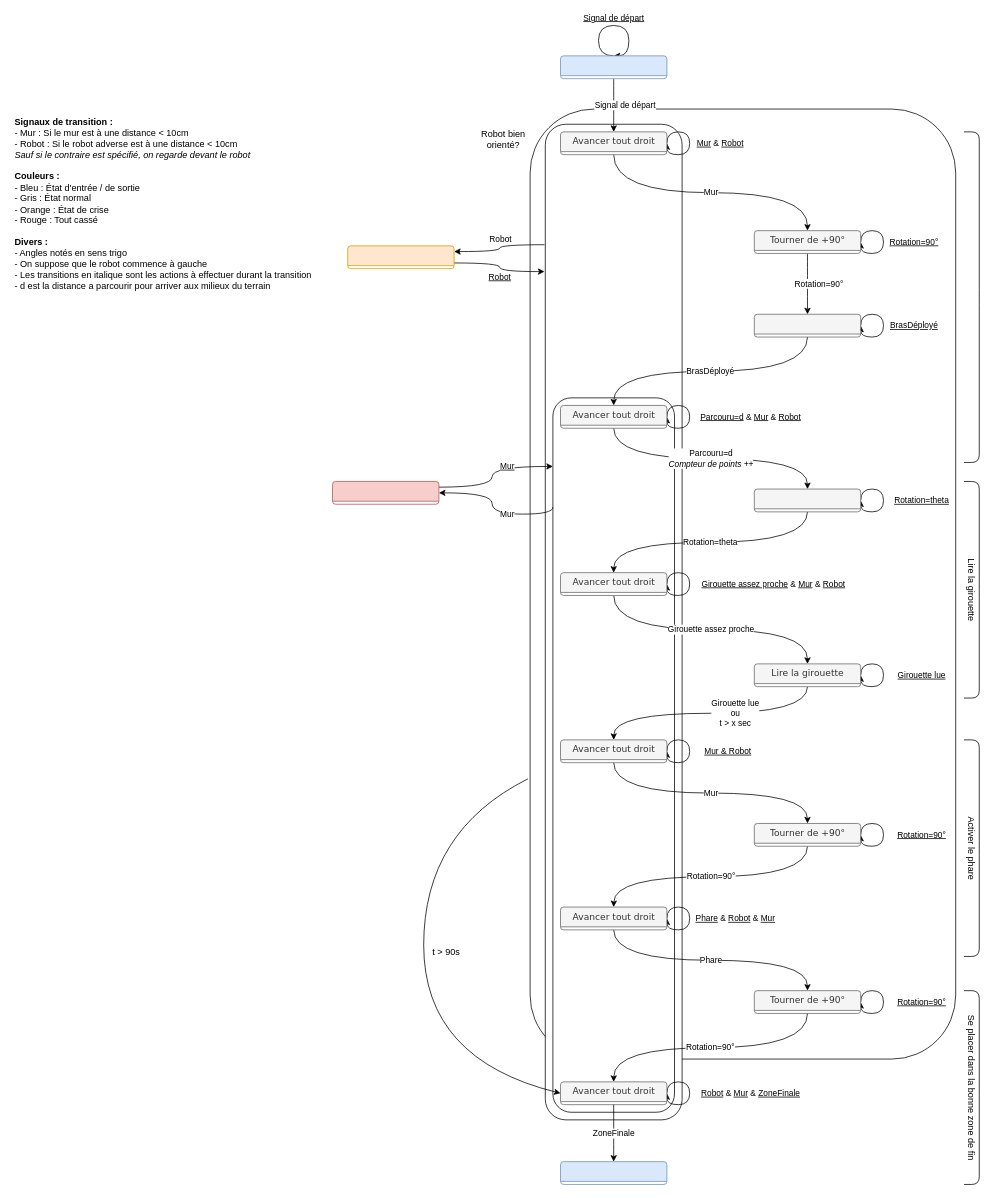
Some shapes in this 993 by 1198 pixel diagram are drawn without their labels. The shapes that lost their labels are listed below. From the top down, each one's centre as x and y in pixels, then its label:
At (x=613, y=67): "Attendre le démarrage".
At (x=400, y=257): "Attendre".
At (x=971, y=296): "Hisser les manches à air".
At (x=807, y=325): "Déployer le bras".
At (x=385, y=492): "STOP".
At (x=807, y=500): "Rotation de +theta".
At (x=613, y=1172): "Position finale au port".
